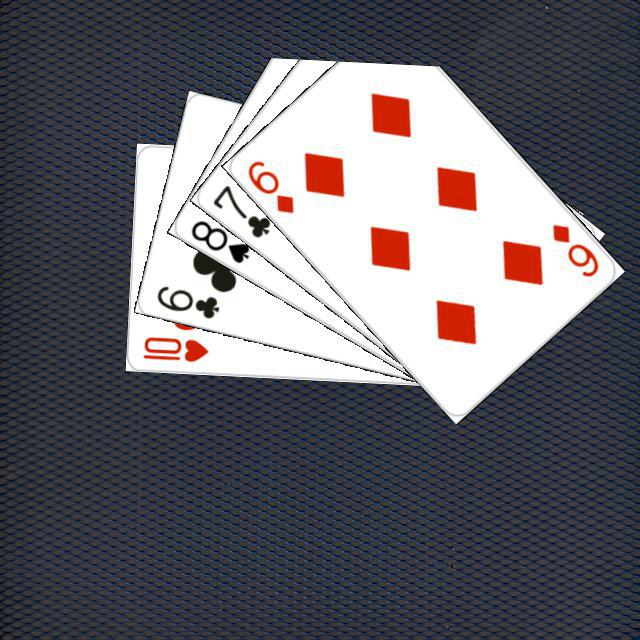10h: (138, 332, 210, 364)
6c: (151, 280, 221, 321)
6d: (242, 155, 296, 216), (547, 218, 601, 279)
7c: (207, 180, 273, 240)
8s: (185, 215, 252, 266)
